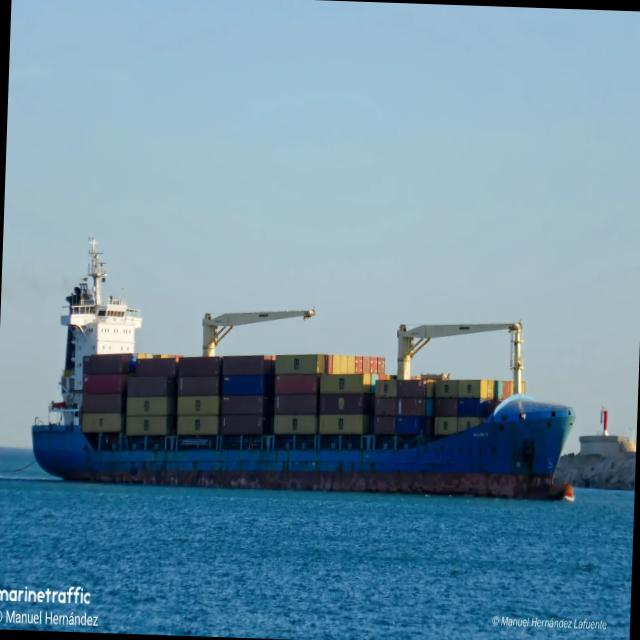Cargo: (32, 239, 574, 499)
